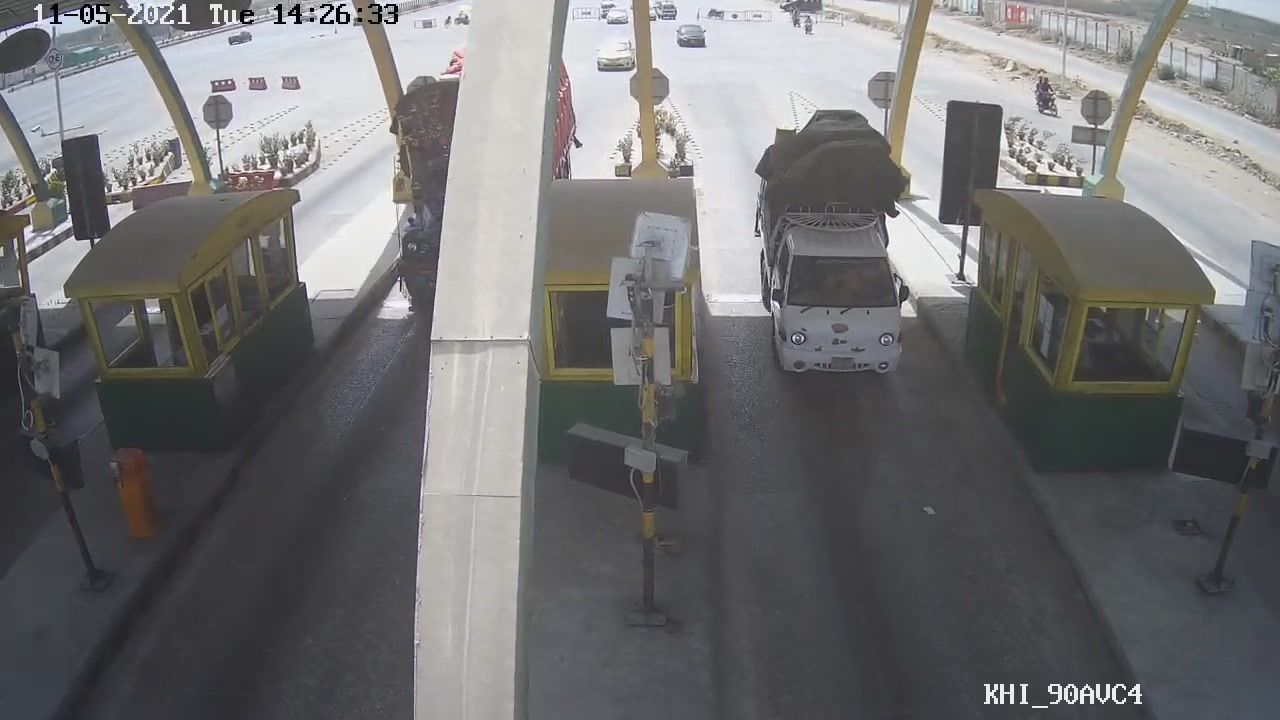F2: (750, 118, 918, 382)
